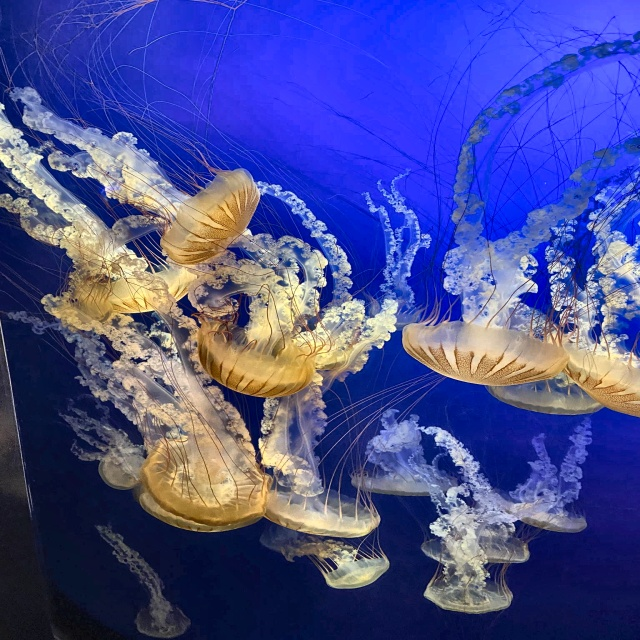jellyfish: (134, 439, 273, 537), (400, 317, 565, 387), (159, 164, 260, 262), (195, 322, 313, 400), (79, 252, 200, 316), (261, 481, 382, 538), (555, 345, 639, 420), (500, 373, 599, 415), (425, 532, 534, 568), (336, 468, 463, 495), (419, 579, 520, 609), (318, 555, 395, 590), (511, 502, 589, 536), (88, 449, 148, 486)
